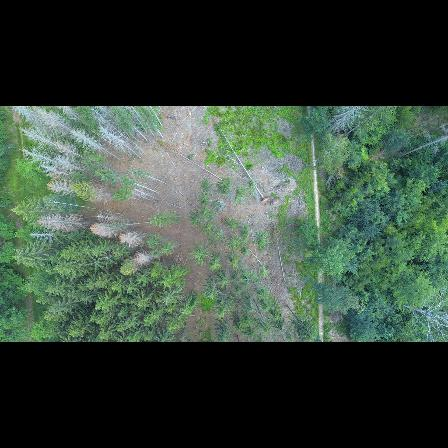Dead: (400, 301, 448, 339), (326, 107, 369, 140), (70, 128, 116, 158), (98, 128, 137, 155), (18, 126, 63, 149), (36, 109, 74, 135), (93, 111, 128, 139), (14, 107, 53, 130), (35, 214, 83, 229), (52, 141, 88, 161), (88, 221, 121, 242), (46, 179, 78, 197), (21, 149, 62, 162), (56, 156, 89, 172), (26, 228, 58, 244), (37, 165, 76, 178), (118, 230, 146, 248), (132, 252, 155, 267)
